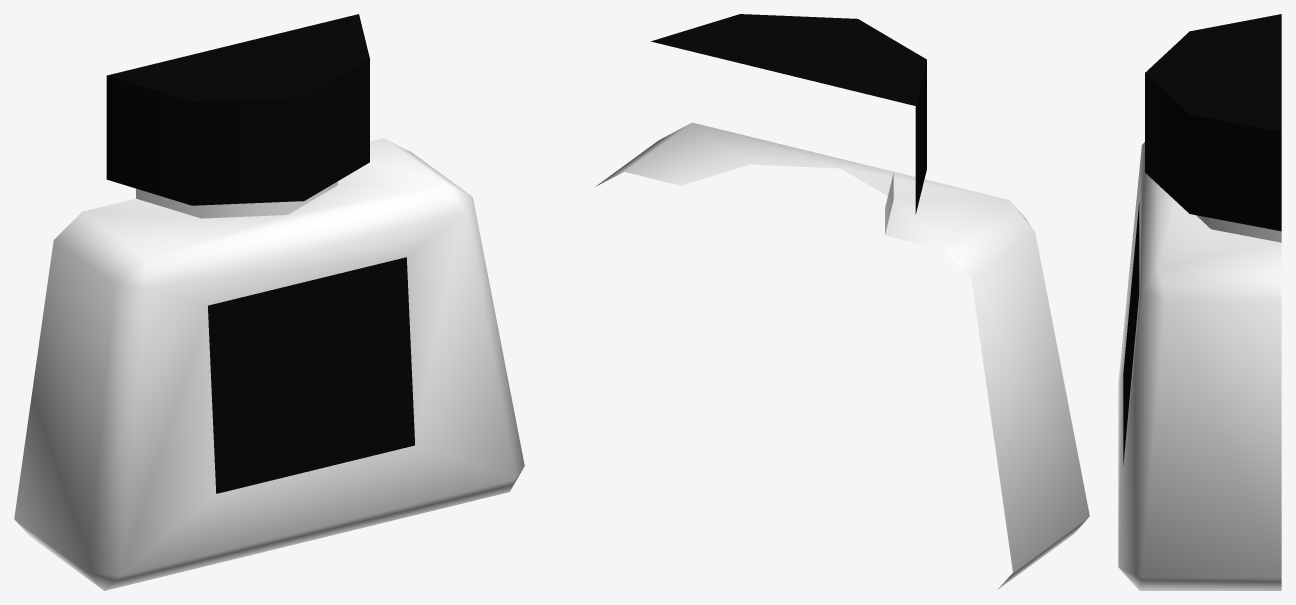
Rendered from InkBottle.glb.
3 renders of one model, left to right at view 1: azimuth 30°, elevation 25°; view 2: azimuth 150°, elevation 25°; view 3: azimuth 270°, elevation 25°, orthographic. The views are drawn at different scales.
Visible parts, largest first — view 1: InkBottle; view 2: InkBottle; view 3: InkBottle.
Part boxes in pixels (bbox=[...]): InkBottle: bbox=[14, 14, 524, 590]; InkBottle: bbox=[595, 14, 1089, 589]; InkBottle: bbox=[1118, 14, 1281, 590].
Bounding box in the file's own units: 0.0879 × 0.085 × 0.0297.
Materials: 1 (1 with a texture image).
